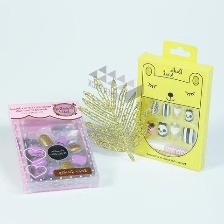plastic_box: (126, 34, 220, 177), (2, 92, 105, 199)
